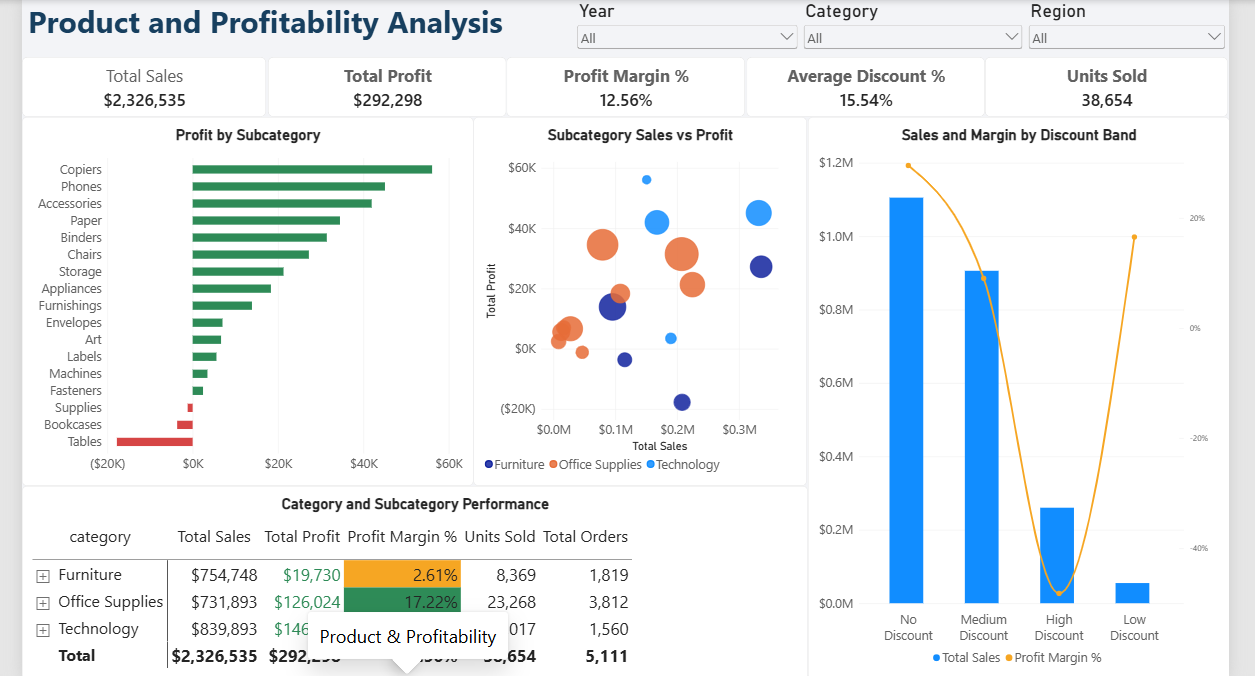

What the dashboard file says about the page in this screenshot:
{"tool":"powerbi","page":{"name":"Product & Profitability","canvas":[1920,1080],"ordinal":1},"visuals":[{"type":"textbox","box":[9.5,0,765.9,83.5],"z":0},{"type":"slicer","fields":{"Values":["DimDate.Year"]},"box":[878,0,360.3,85.9],"z":1000},{"type":"slicer","fields":{"Values":["DimGeography.region"]},"box":[1596.2,0,322.1,85.9],"z":2000},{"type":"slicer","fields":{"Values":["DimProduct.category"]},"box":[1238.3,0,357.9,85.9],"z":3000},{"type":"cardVisual","fields":{"Data":["FactSales.Total Sales"]},"box":[0,90.7,388.9,95.4],"z":4000},{"type":"cardVisual","fields":{"Data":["FactSales.Average Discount %"]},"box":[1152.4,90.7,379.4,95.4],"z":5000},{"type":"cardVisual","fields":{"Data":["FactSales.Units Sold"]},"box":[1531.8,90.7,386.5,95.4],"z":6000},{"type":"cardVisual","fields":{"Data":["FactSales.Total Profit"]},"box":[391.3,90.7,379.4,95.4],"z":7000},{"type":"cardVisual","fields":{"Data":["FactSales.Profit Margin %"]},"box":[770.7,90.7,379.4,95.4],"z":8000},{"type":"clusteredBarChart","title":"Profit by Subcategory","fields":{"Category":["DimProduct.sub_category"],"Y":["FactSales.Total Profit"]},"box":[0,186.1,718.2,586.9],"z":9000},{"type":"lineClusteredColumnComboChart","title":"Sales and Margin by Discount Band","fields":{"Category":["FactSales.discount_band"],"Y":["FactSales.Total Sales"],"Y2":["FactSales.Profit Margin %"]},"box":[1250.2,186.1,670.4,894.7],"z":10000},{"type":"scatterChart","title":"Subcategory Sales vs Profit","fields":{"Category":["DimProduct.sub_category"],"Series":["DimProduct.category"],"Size":["FactSales.Units Sold"],"X":["FactSales.Total Sales"],"Y":["FactSales.Total Profit"]},"box":[718.2,186.1,529.7,586.9],"z":11000},{"type":"pivotTable","title":"Category and Subcategory Performance","fields":{"Rows":["DimProduct.category","DimProduct.sub_category"],"Values":["FactSales.Total Sales","FactSales.Total Profit","FactSales.Profit Margin %","FactSales.Units Sold","FactSales.Total Orders"]},"box":[0,773,1250.2,307.8],"z":12000}]}

Visuals, with their boxes on the page's 1920x1080 design canvas (x1, y1, x2, y2). These are canvas units, not pixel positions in the 1255x676 screenshot, which may show the page scaled, cropped or inside an application window:
textbox: detection(10, 0, 775, 84)
slicer - DimDate.Year: detection(878, 0, 1238, 86)
slicer - DimGeography.region: detection(1596, 0, 1918, 86)
slicer - DimProduct.category: detection(1238, 0, 1596, 86)
cardVisual - FactSales.Total Sales: detection(0, 91, 389, 186)
cardVisual - FactSales.Average Discount %: detection(1152, 91, 1532, 186)
cardVisual - FactSales.Units Sold: detection(1532, 91, 1918, 186)
cardVisual - FactSales.Total Profit: detection(391, 91, 771, 186)
cardVisual - FactSales.Profit Margin %: detection(771, 91, 1150, 186)
"Profit by Subcategory" clusteredBarChart: detection(0, 186, 718, 773)
"Sales and Margin by Discount Band" lineClusteredColumnComboChart: detection(1250, 186, 1921, 1081)
"Subcategory Sales vs Profit" scatterChart: detection(718, 186, 1248, 773)
"Category and Subcategory Performance" pivotTable: detection(0, 773, 1250, 1081)
